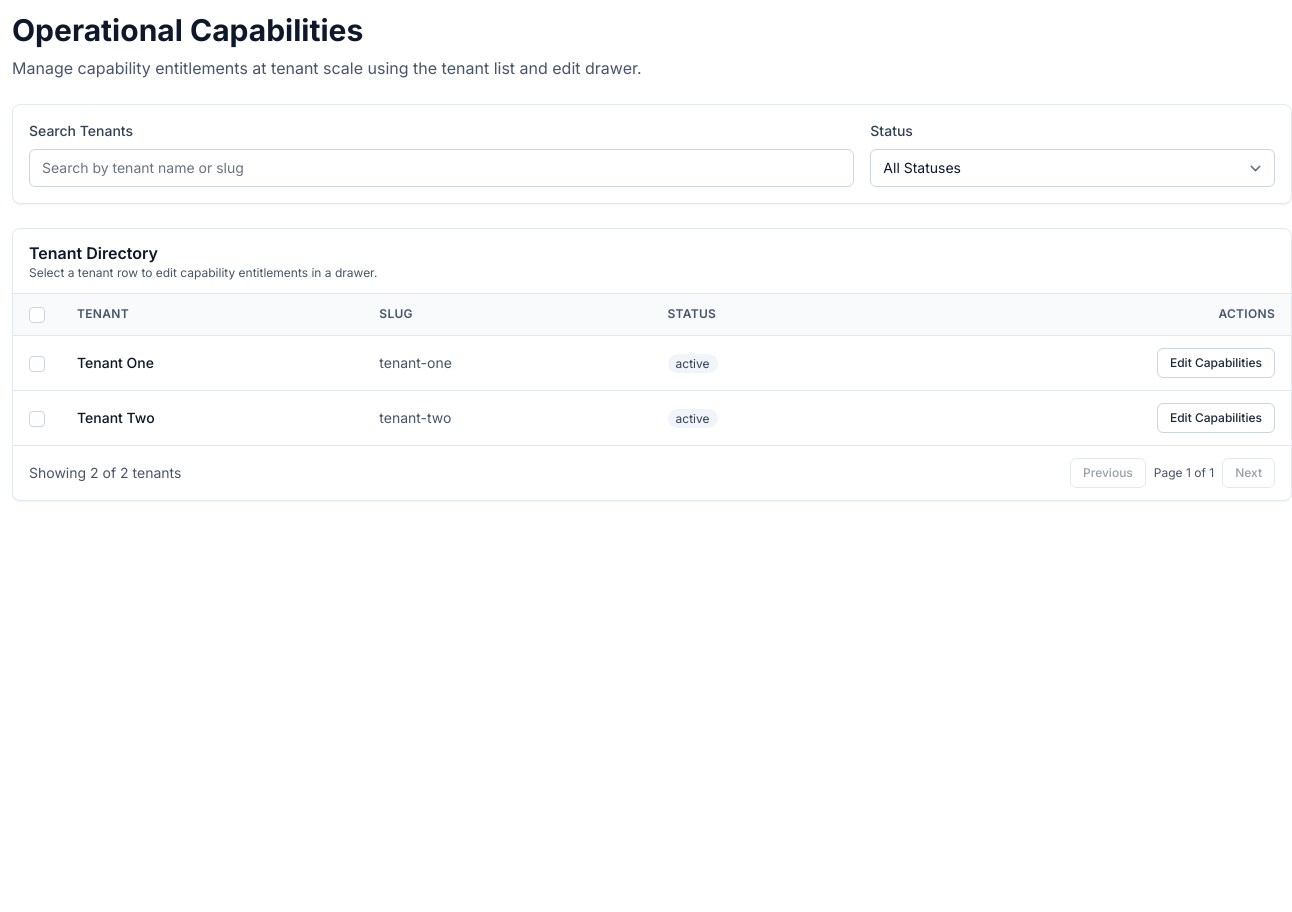
Scenario: OperationalCapabilitiesPage › loads tenants and opens drawer to fetch capabilities
This screenshot has width=1292, height=912.
Click the button "Edit Capabilities" in the row of "Tenant One" at (1216, 363), box [1157,348,1275,378]
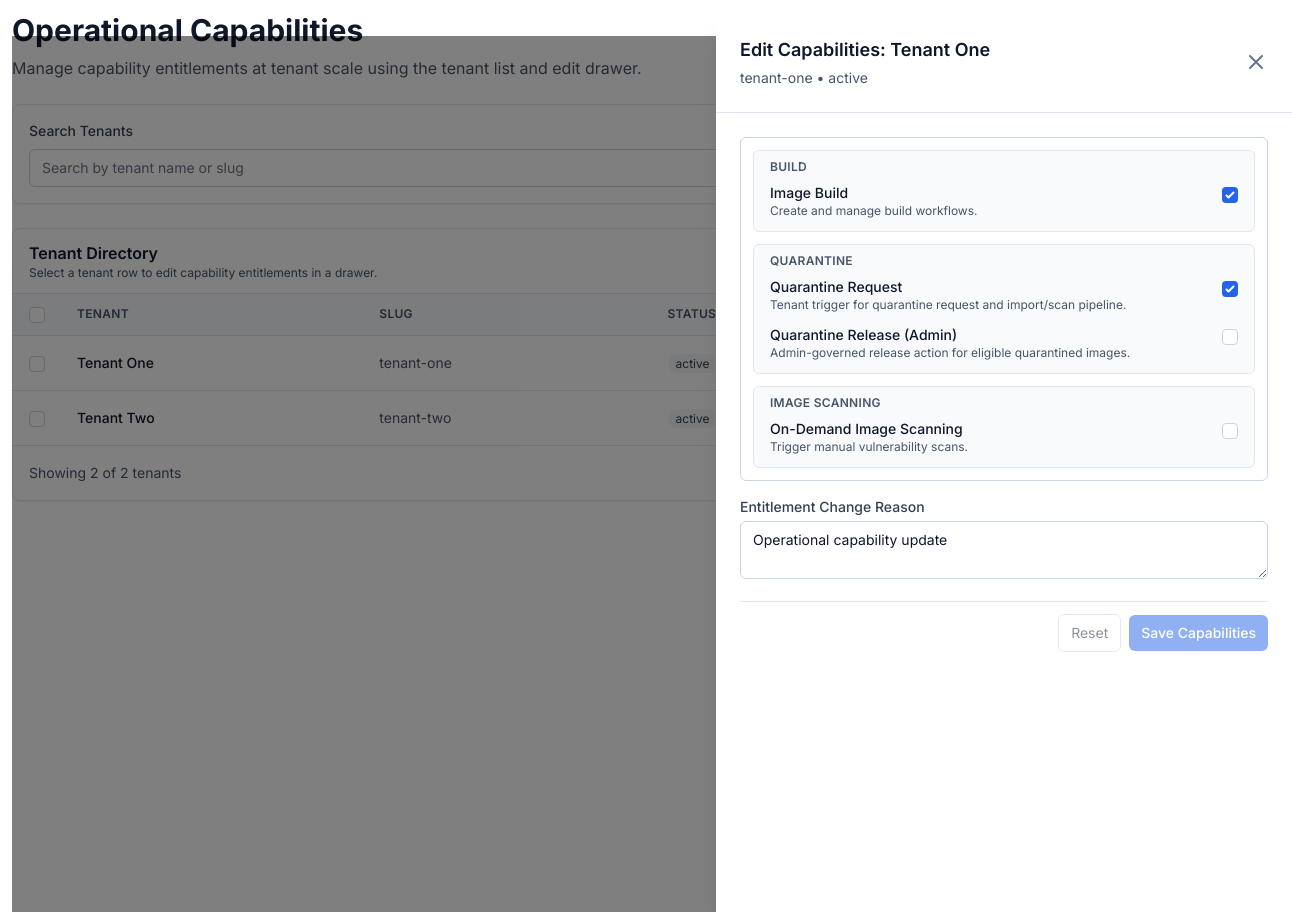
Now the checkbox labelled "Image Build Create and manage build workflows." is shown, box [1222,187,1238,203]
